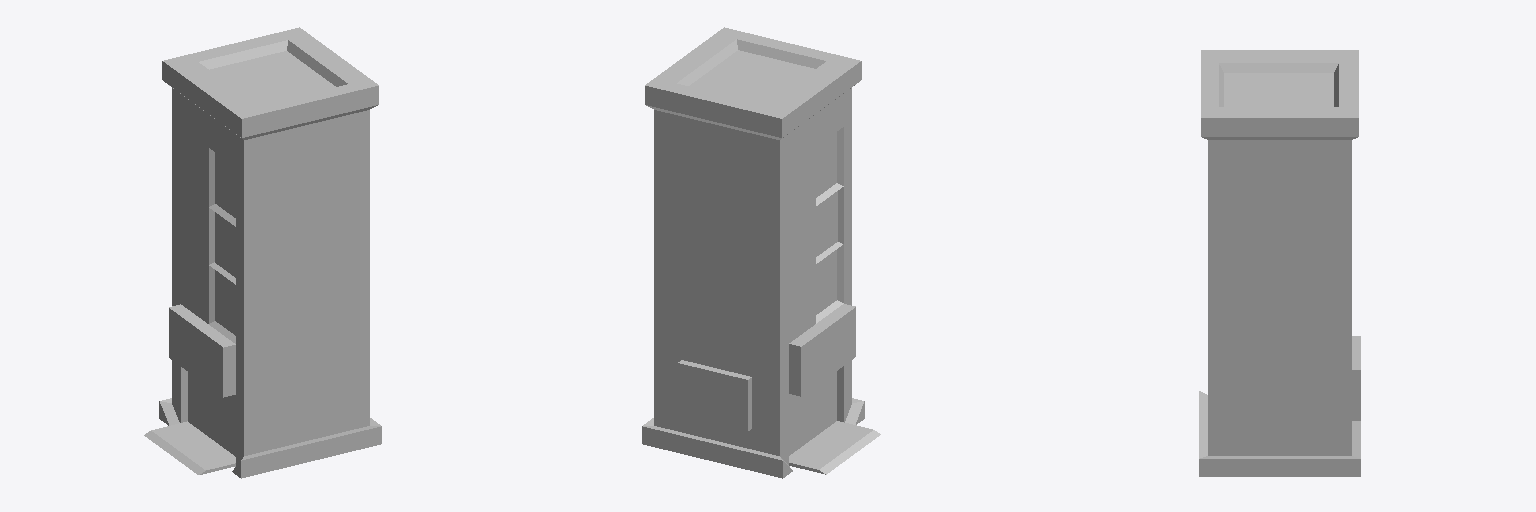
File: EDIFICIO EXTERIOR 2.obj
The picture shows the model from 3 angles: view 1: azimuth 30°, elevation 25°; view 2: azimuth 150°, elevation 25°; view 3: azimuth 270°, elevation 25°; orthographic projection.
Visible parts, largest first — view 1: pCube7; view 2: pCube7; view 3: pCube7.
Boxes of the visible parts, box(x1,y1,x2,y2) form: pCube7: box(144, 27, 381, 478); pCube7: box(642, 27, 880, 478); pCube7: box(1199, 50, 1360, 476).
Size of the model in its own units: 4088 by 8203 by 3379.